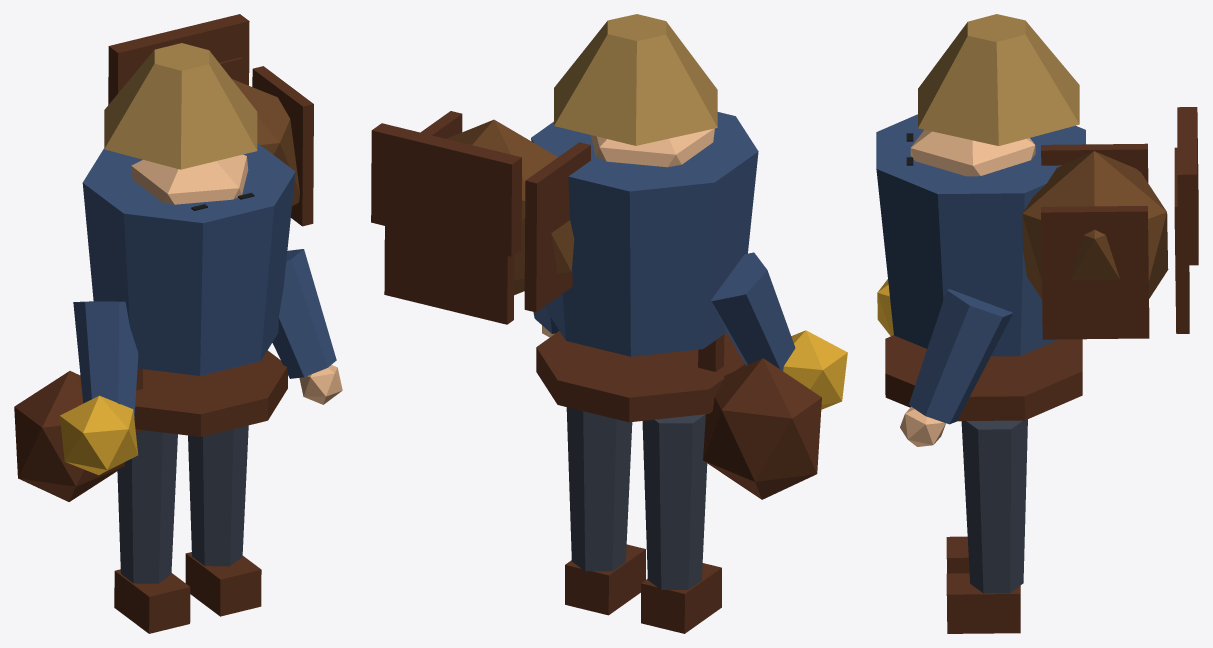
File: npcpose_merchant_idle_08.glb
3 views of the same model, side by side, from view 1: azimuth 30°, elevation 25°; view 2: azimuth 150°, elevation 25°; view 3: azimuth 270°, elevation 25° (orthographic). The views are drawn at different scales.
Visible parts, largest first — view 1: npcpose; view 2: npcpose; view 3: npcpose.
Part boxes in pixels (x1,y1,x2,y2): npcpose: (14, 14, 342, 633); npcpose: (371, 14, 847, 633); npcpose: (876, 14, 1198, 633).
Size of the model in its own units: 1.2 by 1.91 by 0.9656.
